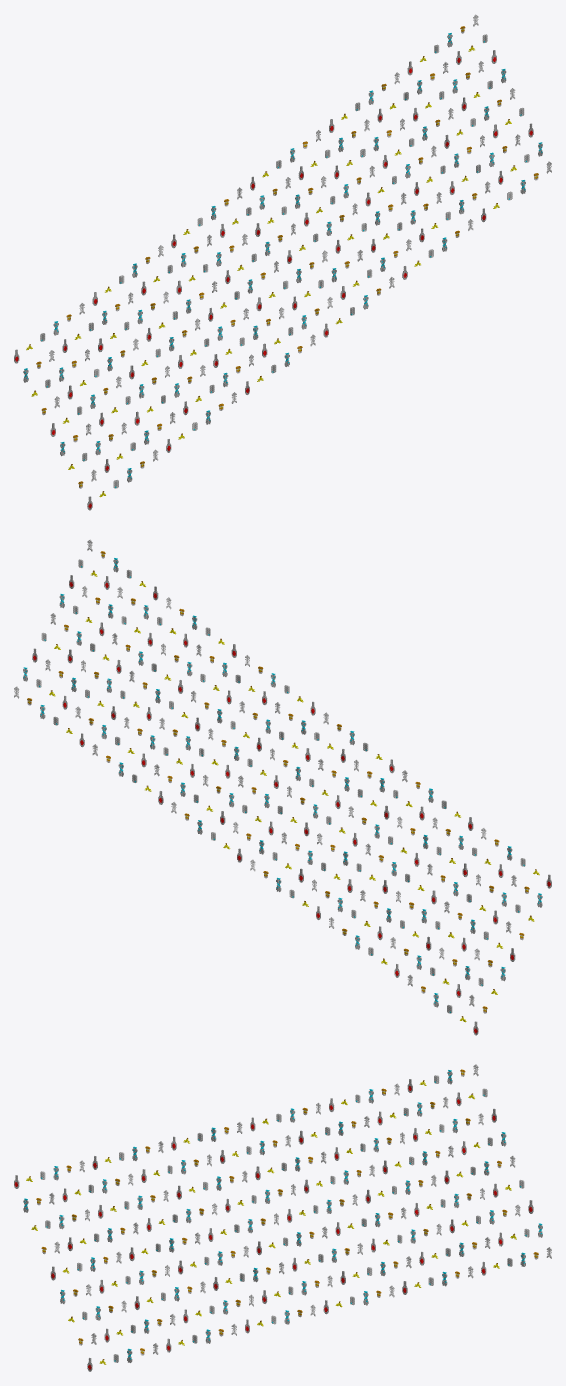
File: TitleRubbishBackDrop.fbx
The picture shows the model from 3 angles, top to bottom: view 1: azimuth 30°, elevation 25°; view 2: azimuth 150°, elevation 25°; view 3: azimuth 330°, elevation 25°; orthographic projection.
Visible parts, largest first — view 1: RubbishBDMesh; view 2: RubbishBDMesh; view 3: RubbishBDMesh.
Boxes of the visible parts, x1,y1,x2,y2 form: RubbishBDMesh: (14, 14, 551, 510); RubbishBDMesh: (14, 539, 551, 1035); RubbishBDMesh: (14, 1064, 551, 1371).
Size of the model in its own units: 37.1 by 26.47 by 0.094.
